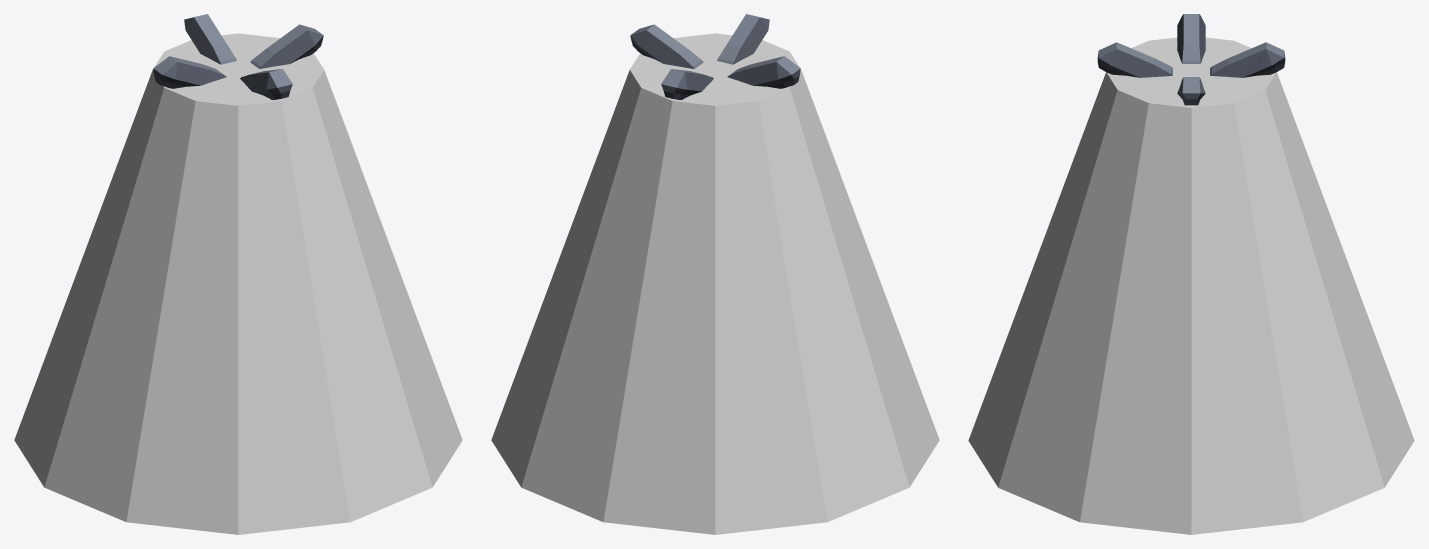
The model's file is Lamp.fbx.
3 renders of one model, left to right at view 1: azimuth 30°, elevation 25°; view 2: azimuth 150°, elevation 25°; view 3: azimuth 270°, elevation 25°, orthographic.
Visible parts, largest first — view 1: Beam_Glow, Body; view 2: Beam_Glow, Body; view 3: Beam_Glow, Body.
Boxes of the visible parts, x1,y1,x2,y2 form: Beam_Glow: [14, 33, 462, 534]; Body: [153, 14, 323, 99]; Beam_Glow: [491, 33, 939, 534]; Body: [630, 14, 800, 99]; Beam_Glow: [968, 37, 1414, 534]; Body: [1097, 14, 1285, 105].
Bounding box in the file's own units: 6.8 × 6.89 × 6.8.
